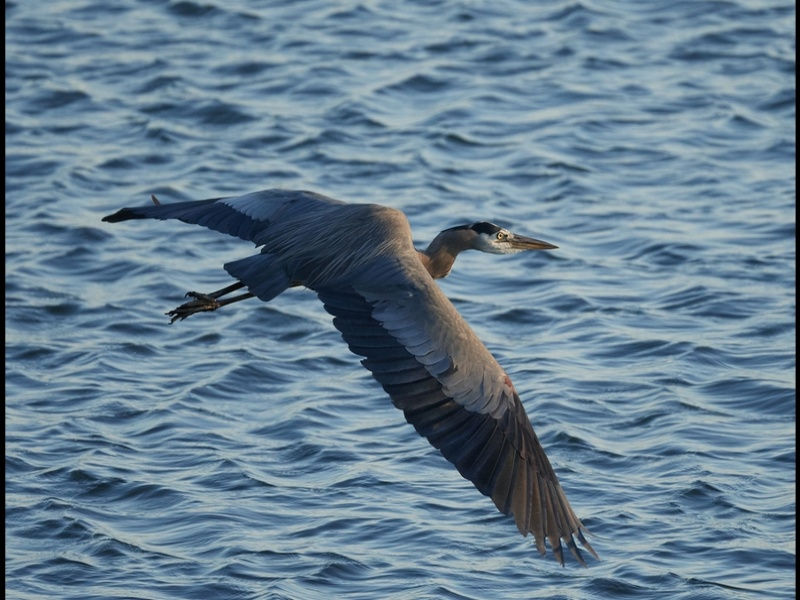heron: (100, 185, 605, 568)
